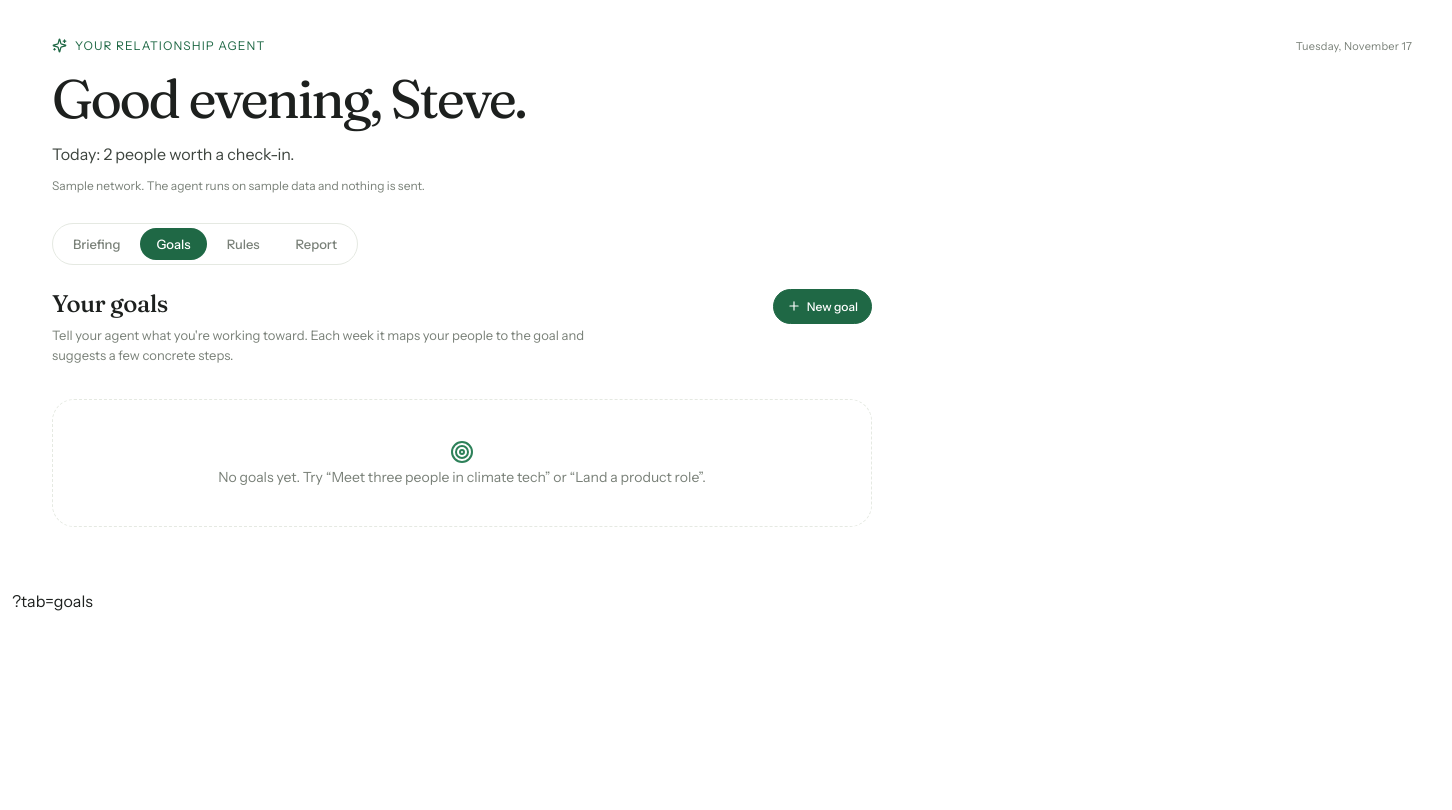
agent home › opens the tab named in the URL and keeps tab choice linkable
The image size is (1452, 810).
Check: the element "goals" is shown, box [52,289,872,527]
Click the tab "Rules".
click(243, 244)  # box [211,228,276,260]
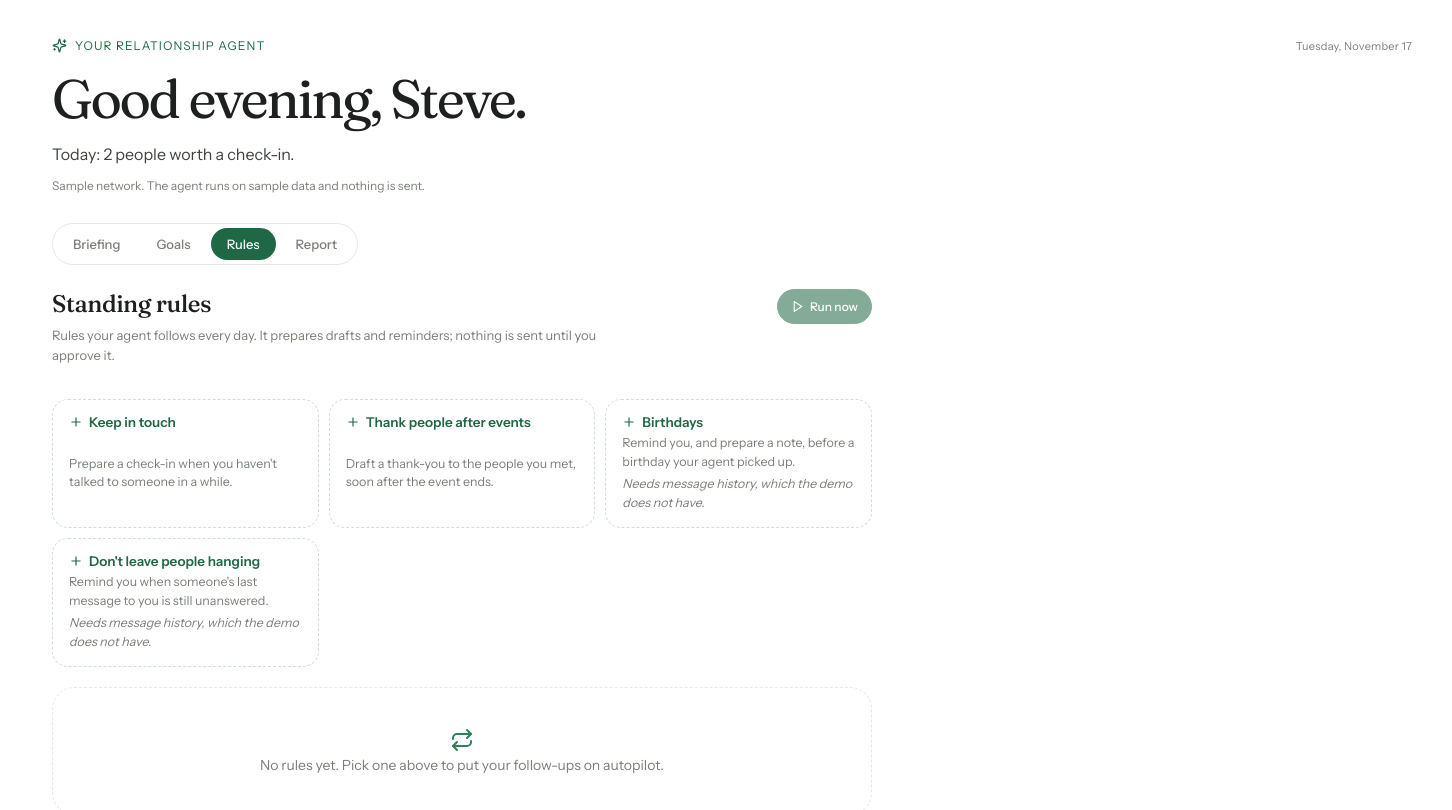
Click the tab "Briefing".
click(97, 244)  # box [57,228,136,260]
(page scrolled)
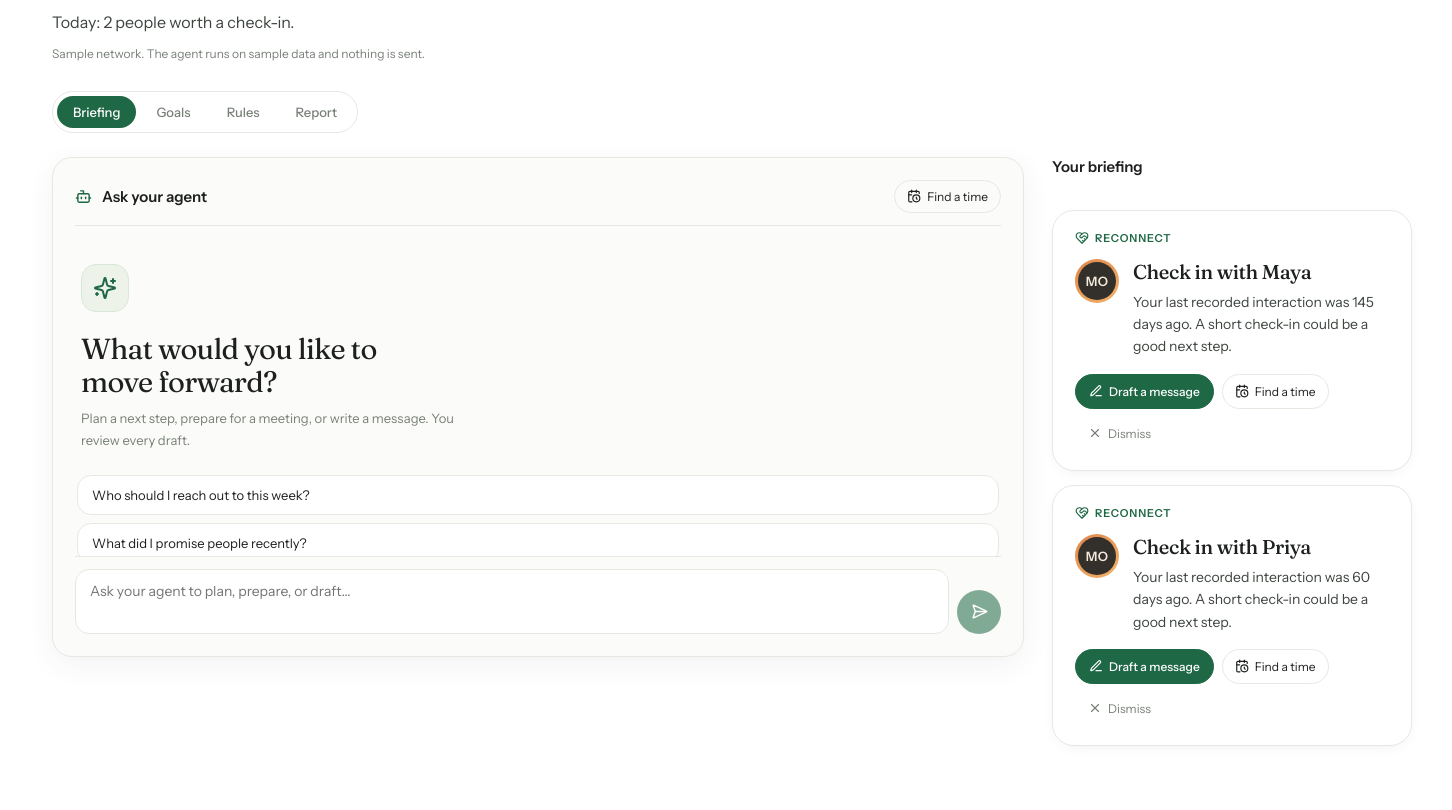
Check: the element "Your briefing" is shown, box [1052,157,1412,746]
